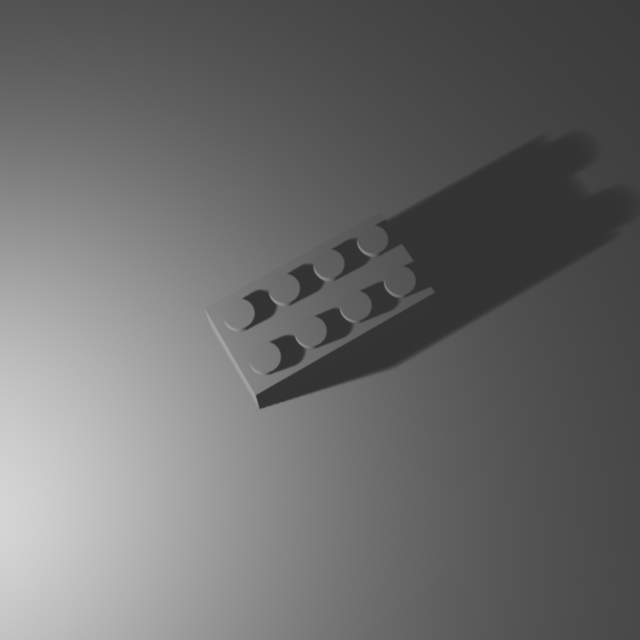lego_2x4: (203, 208, 436, 409)
